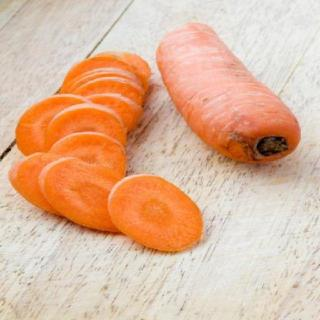carrot: (151, 22, 303, 170)
